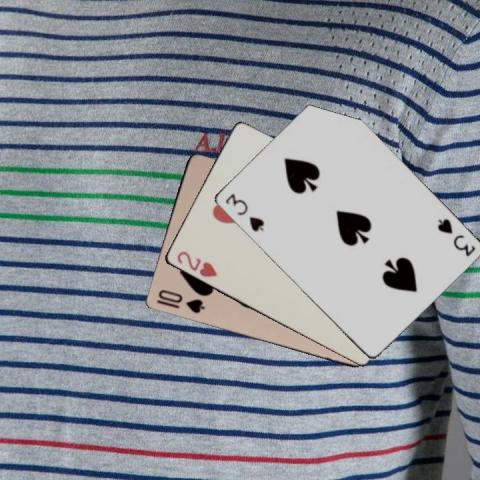10s: (155, 287, 205, 315)
2h: (173, 248, 218, 279)
3s: (434, 215, 477, 258), (222, 191, 266, 233)
